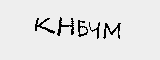Б: (76, 17, 89, 39)
К: (32, 15, 56, 37)
М: (101, 19, 123, 42)
Н: (55, 13, 77, 39)
Ч: (86, 20, 103, 41)
